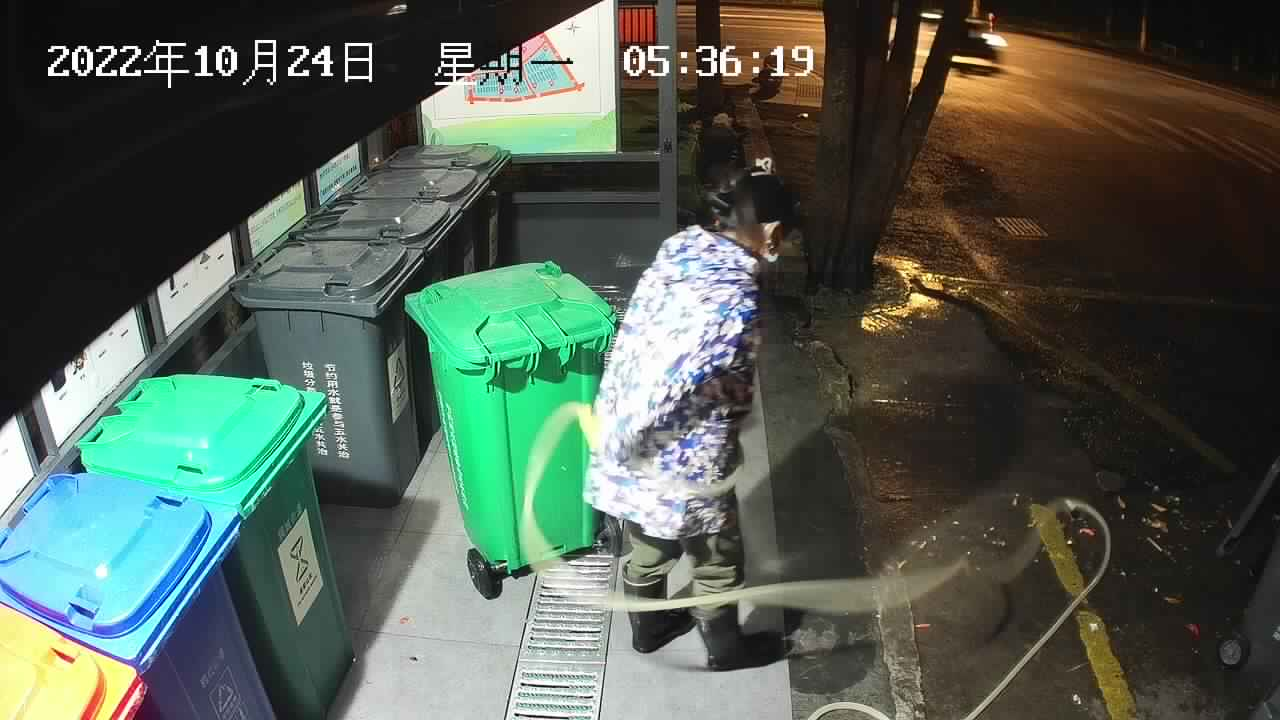worker: (577, 152, 801, 674)
